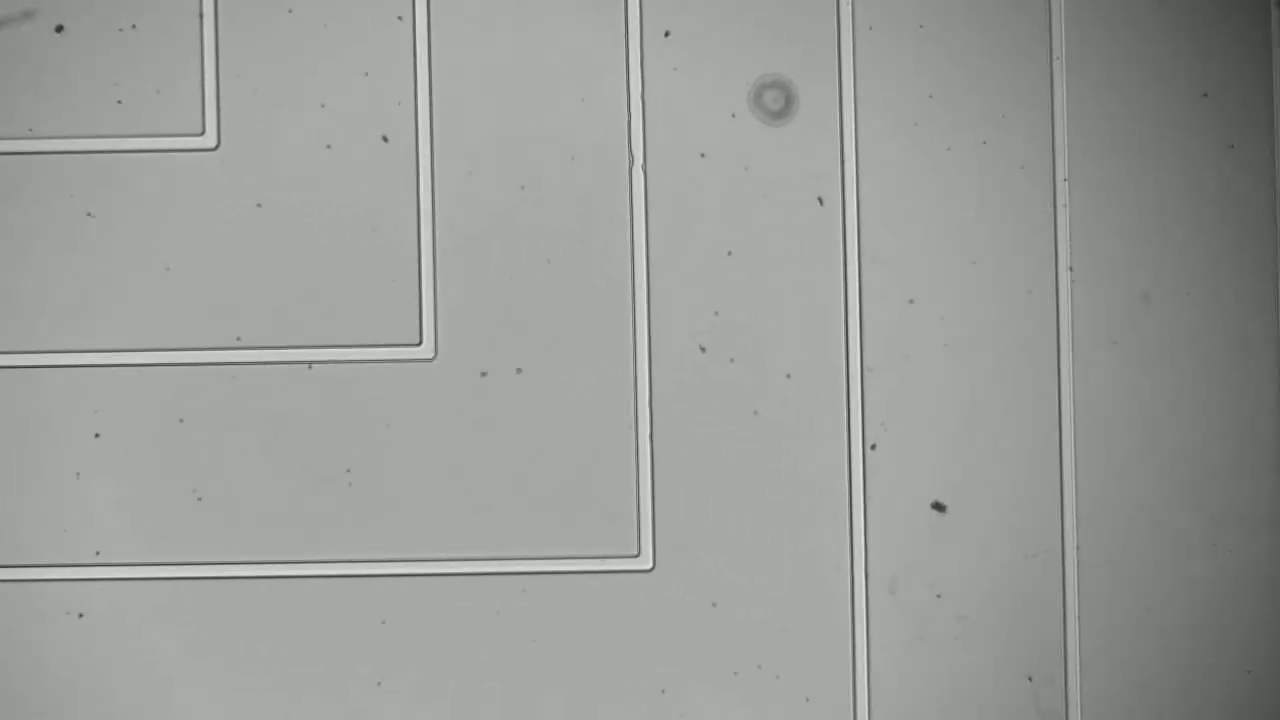edge_bite: (624, 141, 656, 179)
